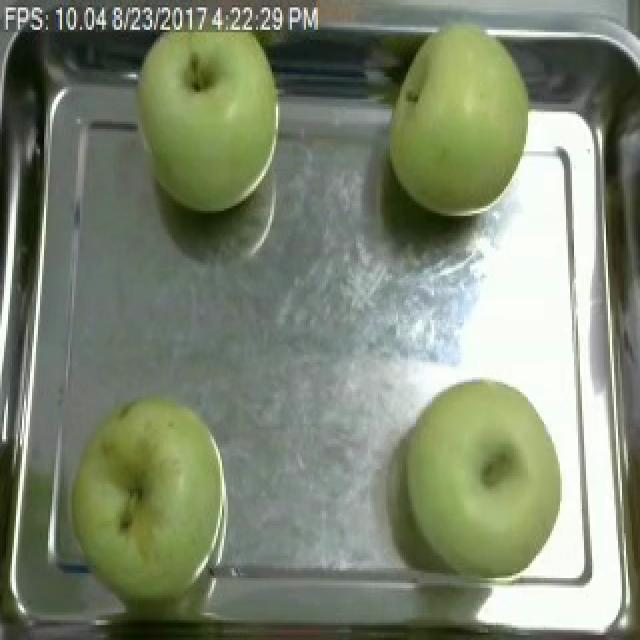50-_ripeness: (377, 15, 529, 225), (408, 378, 562, 584), (72, 399, 225, 604), (136, 13, 286, 215)
